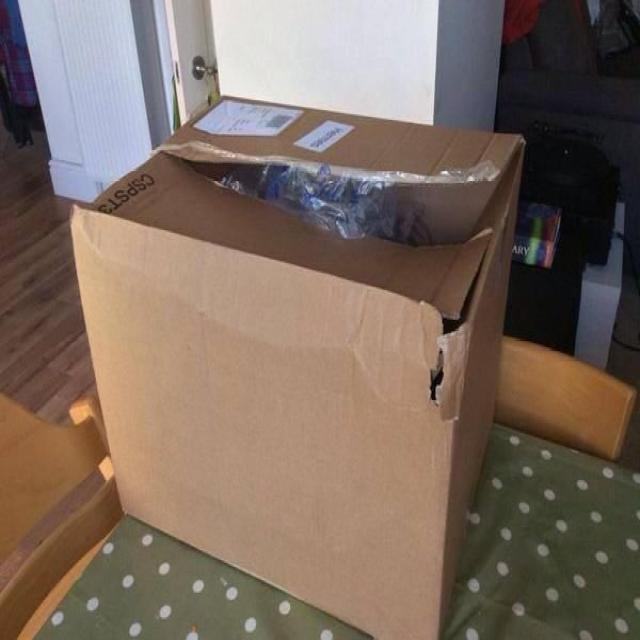Kardus kondisi rusak: (69, 93, 527, 640)
